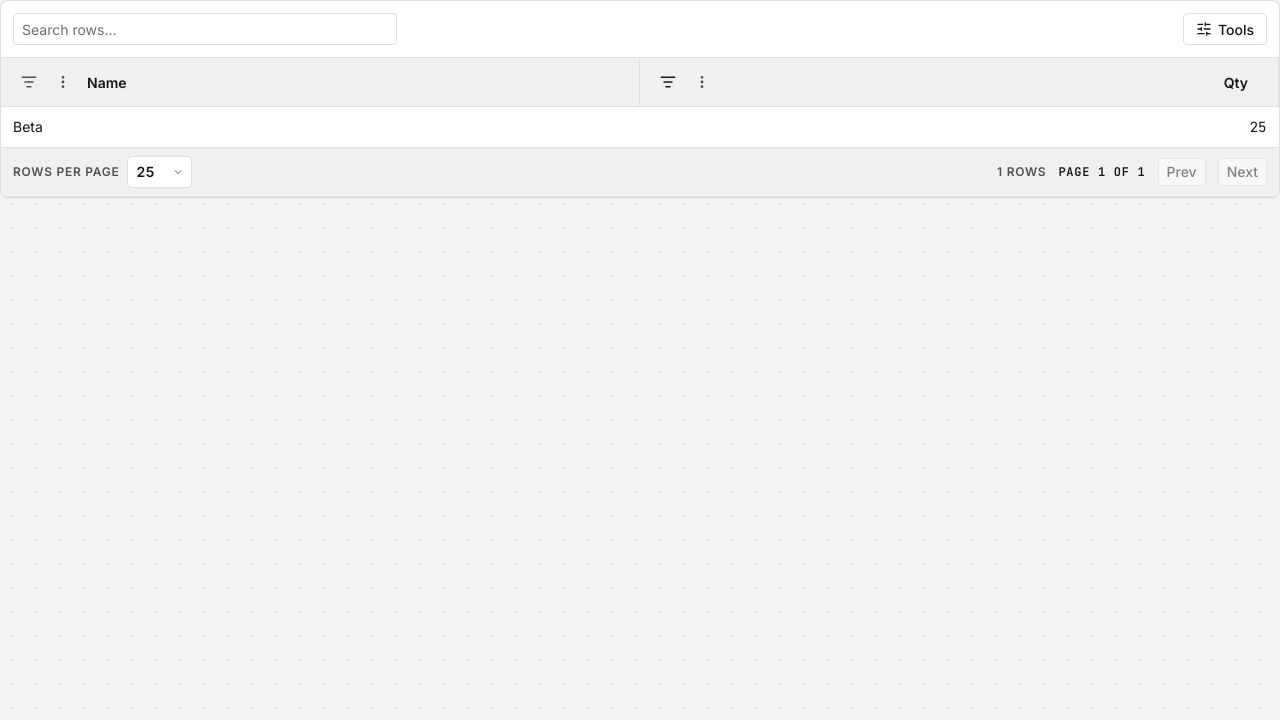
Test: two-condition AND/OR filter › removing the second condition reverts to a single condition
This screenshot has width=1280, height=720.
Expected: the text "Gamma" is not shown
Click the button named "qty column menu" at (702,82), box [686, 66, 718, 98]
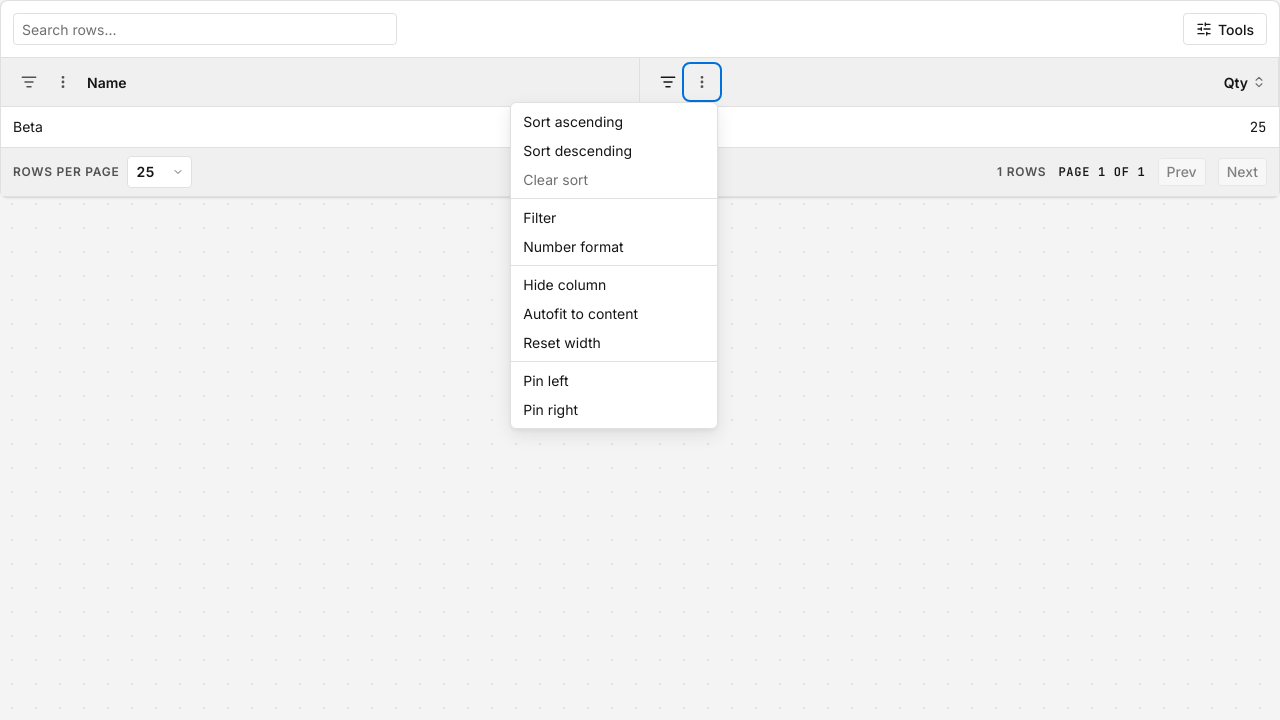
Click the menu item "Filter" at (614,218), box [511, 203, 717, 232]
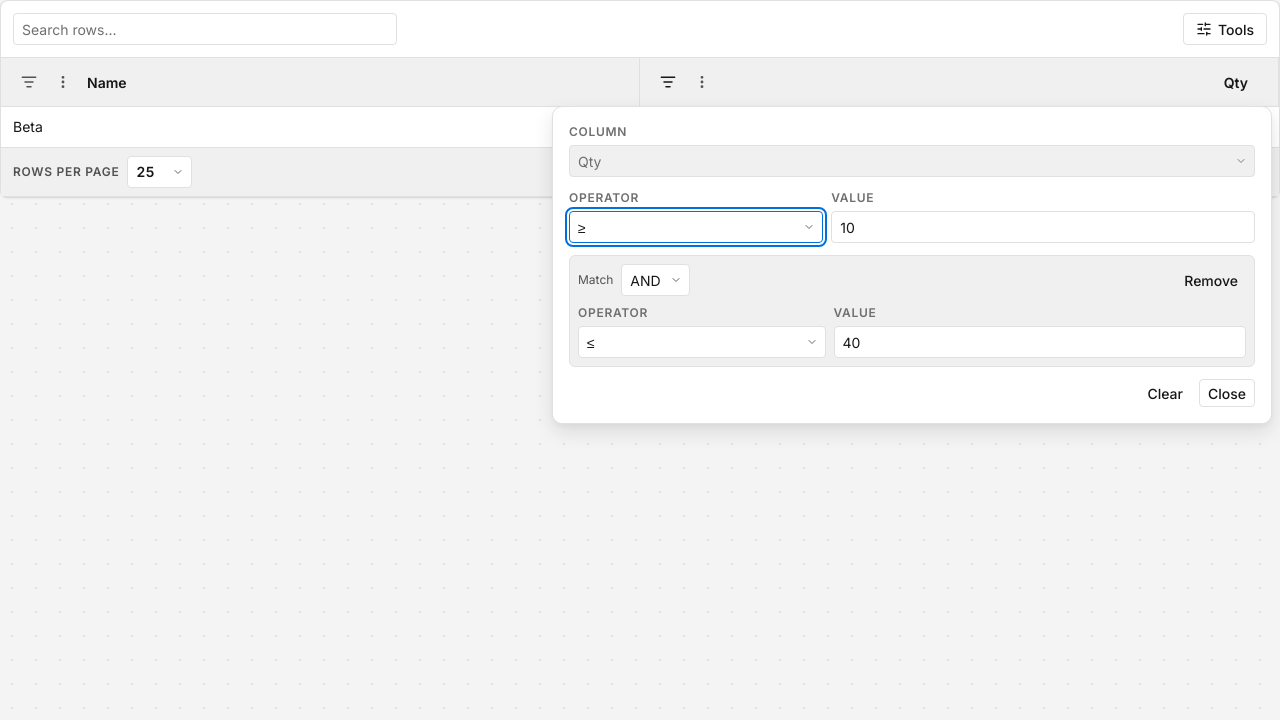
Click the button with aria-label "remove second qty condition" at (1211,280), box [1176, 266, 1246, 294]
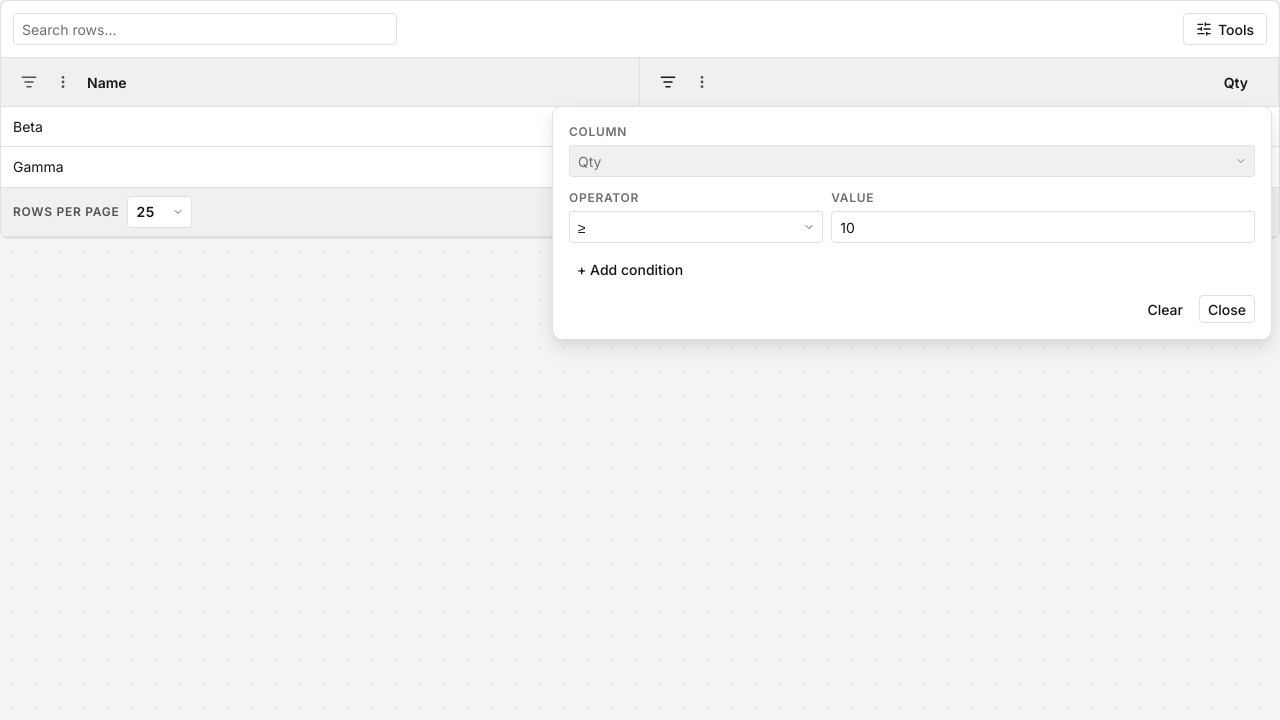
Expected: the text "Beta" is shown, [1, 106, 640, 146]
Expected: the text "Gamma" is shown, [1, 146, 640, 186]
